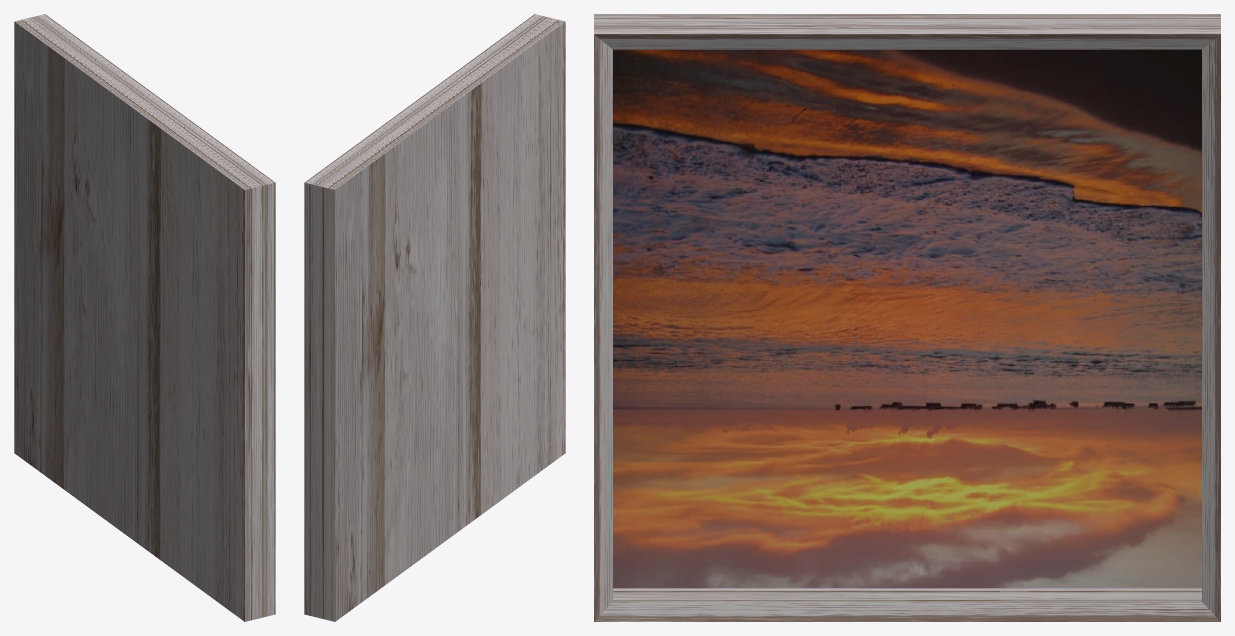
The model's file is adult_frame_2.gltf.
3 views of the same model, side by side, from view 1: azimuth 30°, elevation 25°; view 2: azimuth 150°, elevation 25°; view 3: azimuth 270°, elevation 25° (orthographic). The views are drawn at different scales.
Parts seen in each view (by area): view 1: Object_3; view 2: Object_3; view 3: Object_2, Object_3.
Boxes of the visible parts, x1,y1,x2,y2 form: Object_3: [14, 14, 275, 621]; Object_3: [304, 14, 565, 621]; Object_2: [613, 49, 1201, 588]; Object_3: [594, 14, 1220, 621].
Size of the model in its own units: 0.18 by 2.42 by 2.34.
Materials: 2 (2 with a texture image).
